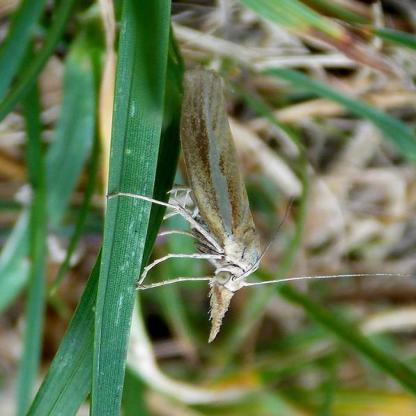stem-borer: (102, 70, 410, 348)
